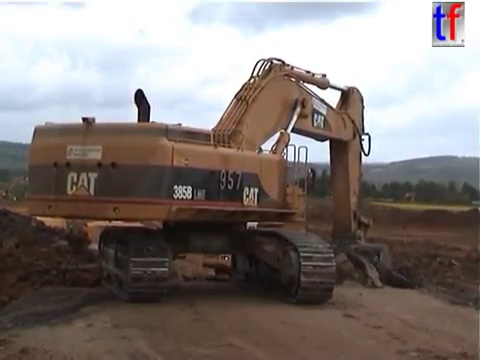excavator: (21, 54, 420, 307)
truck: (1, 205, 145, 330), (198, 208, 324, 284), (78, 214, 170, 292)
